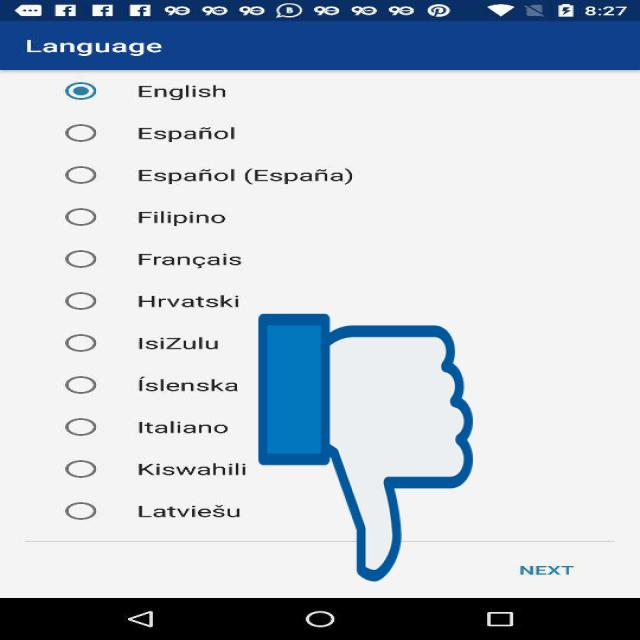obstruction: (258, 308, 473, 587)
